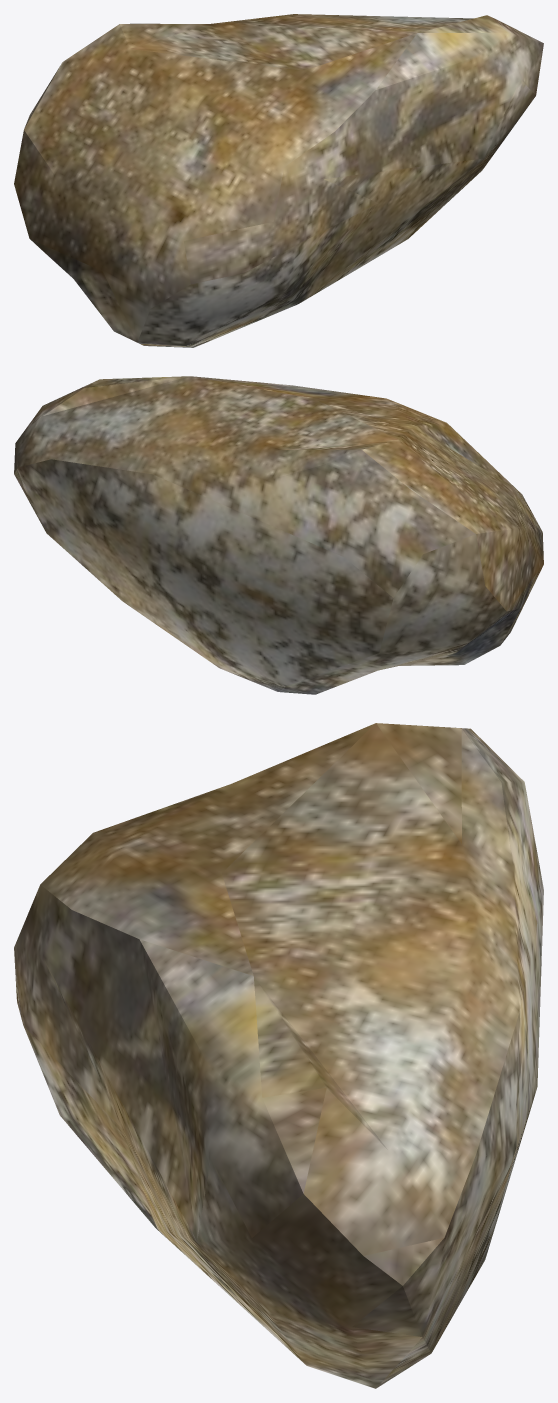
3 renders of one model, top to bottom at view 1: azimuth 30°, elevation 25°; view 2: azimuth 150°, elevation 25°; view 3: azimuth 270°, elevation 25°, orthographic. The views are drawn at different scales.
Parts seen in each view (by area): view 1: rock085_lod4; view 2: rock085_lod4; view 3: rock085_lod4.
Part boxes in pixels (x1,y1,x2,y2): rock085_lod4: (14,14,543,347); rock085_lod4: (14,376,543,694); rock085_lod4: (14,723,543,1388).
Bounding box in the file's own units: 1 × 0.545 × 0.5088.
1 material, 1 textured.
